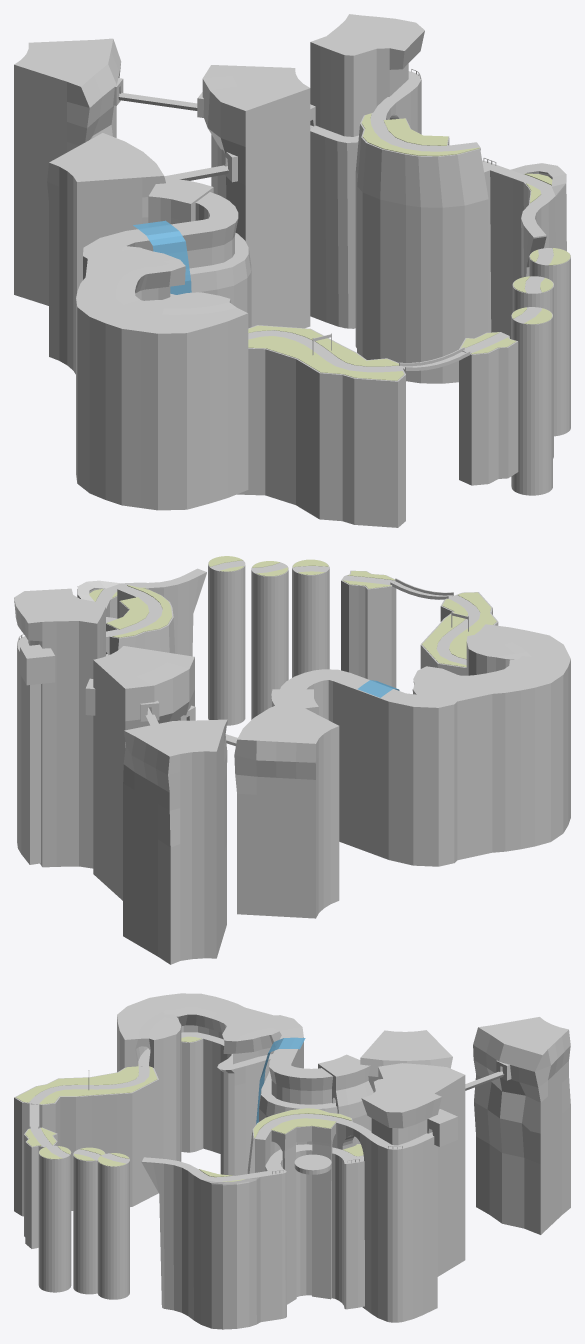
Rendered from LD 2 - Canyon track v09.fbx.
The picture shows the model from 3 angles, top to bottom: view 1: azimuth 30°, elevation 25°; view 2: azimuth 150°, elevation 25°; view 3: azimuth 270°, elevation 25°; orthographic projection. The views are drawn at different scales.
Visible parts, largest first — view 1: Waterfall Track, Cube.017, Start Plateau, Cube, Cube.004, Cube.019, Cube.003, Cube.021, Pillar End Plateau, Pillar 3, Pillar 1, Lower Track Ground (+11 smaller); view 2: Waterfall Track, Cube.004, Cube.003, Cube.021, Cube, Cube.017, Pillar 1, Pillar End Plateau, Pillar 2, Pillar 3, Cube.019, Cube.023 (+9 smaller); view 3: Cube.019, Waterfall Track, Cube.004, Cube.017, Start Plateau, Cube, Cylinder.007, Pillar 3, Pillar 1, Cube.021, Pillar 2, Cube.003 (+12 smaller).
Boxes of the visible parts, left/top/right/bottom form: Waterfall Track: left=76, top=178, right=251, bottom=510; Cube.017: left=355, top=80, right=488, bottom=383; Start Plateau: left=237, top=348, right=405, bottom=527; Cube: left=202, top=65, right=310, bottom=328; Cube.004: left=14, top=38, right=121, bottom=305; Cube.019: left=310, top=131, right=566, bottom=338; Cube.003: left=47, top=133, right=165, bottom=374; Cube.021: left=310, top=14, right=424, bottom=328; Pillar End Plateau: left=459, top=341, right=518, bottom=485; Pillar 3: left=511, top=316, right=552, bottom=495; Pillar 1: left=529, top=257, right=570, bottom=436; Lower Track Ground: left=310, top=125, right=565, bottom=237; Waterfall Track: left=271, top=624, right=570, bottom=866; Cube.004: left=123, top=719, right=227, bottom=964; Cube.003: left=234, top=700, right=339, bottom=918; Cube.021: left=14, top=588, right=105, bottom=868; Cube: left=93, top=646, right=194, bottom=900; Cube.017: left=17, top=589, right=175, bottom=864; Pillar 1: left=208, top=565, right=245, bottom=725; Pillar End Plateau: left=341, top=581, right=396, bottom=687; Pillar 2: left=251, top=570, right=288, bottom=719; Pillar 3: left=292, top=567, right=329, bottom=677; Cube.019: left=77, top=572, right=206, bottom=656; Cube.023: left=20, top=644, right=55, bottom=685; Cube.019: left=141, top=1150, right=364, bottom=1329; Waterfall Track: left=117, top=993, right=373, bottom=1175; Cube.004: left=473, top=1017, right=570, bottom=1234; Cube.017: left=247, top=1122, right=437, bottom=1322; Start Plateau: left=14, top=1079, right=158, bottom=1216; Cube: left=378, top=1063, right=465, bottom=1276; Cylinder.007: left=271, top=1122, right=335, bottom=1304; Pillar 3: left=38, top=1153, right=71, bottom=1292; Pillar 1: left=97, top=1161, right=129, bottom=1299; Cube.021: left=361, top=1075, right=441, bottom=1145; Pillar 2: left=73, top=1156, right=97, bottom=1294; Cube.003: left=360, top=1030, right=452, bottom=1091.
Size of what is drawn, in the model's own units: 9331 by 4866 by 11439.
